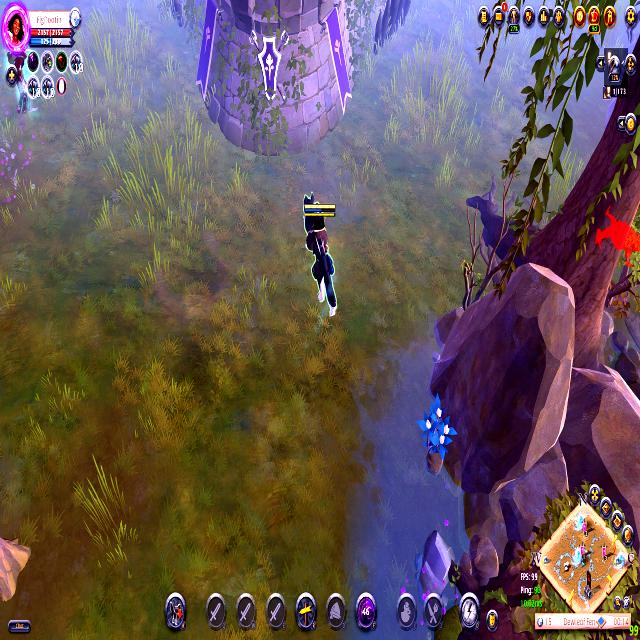hide: (412, 383, 460, 474)
ore: (594, 191, 640, 276), (4, 33, 42, 122)
red: (297, 183, 348, 329)
